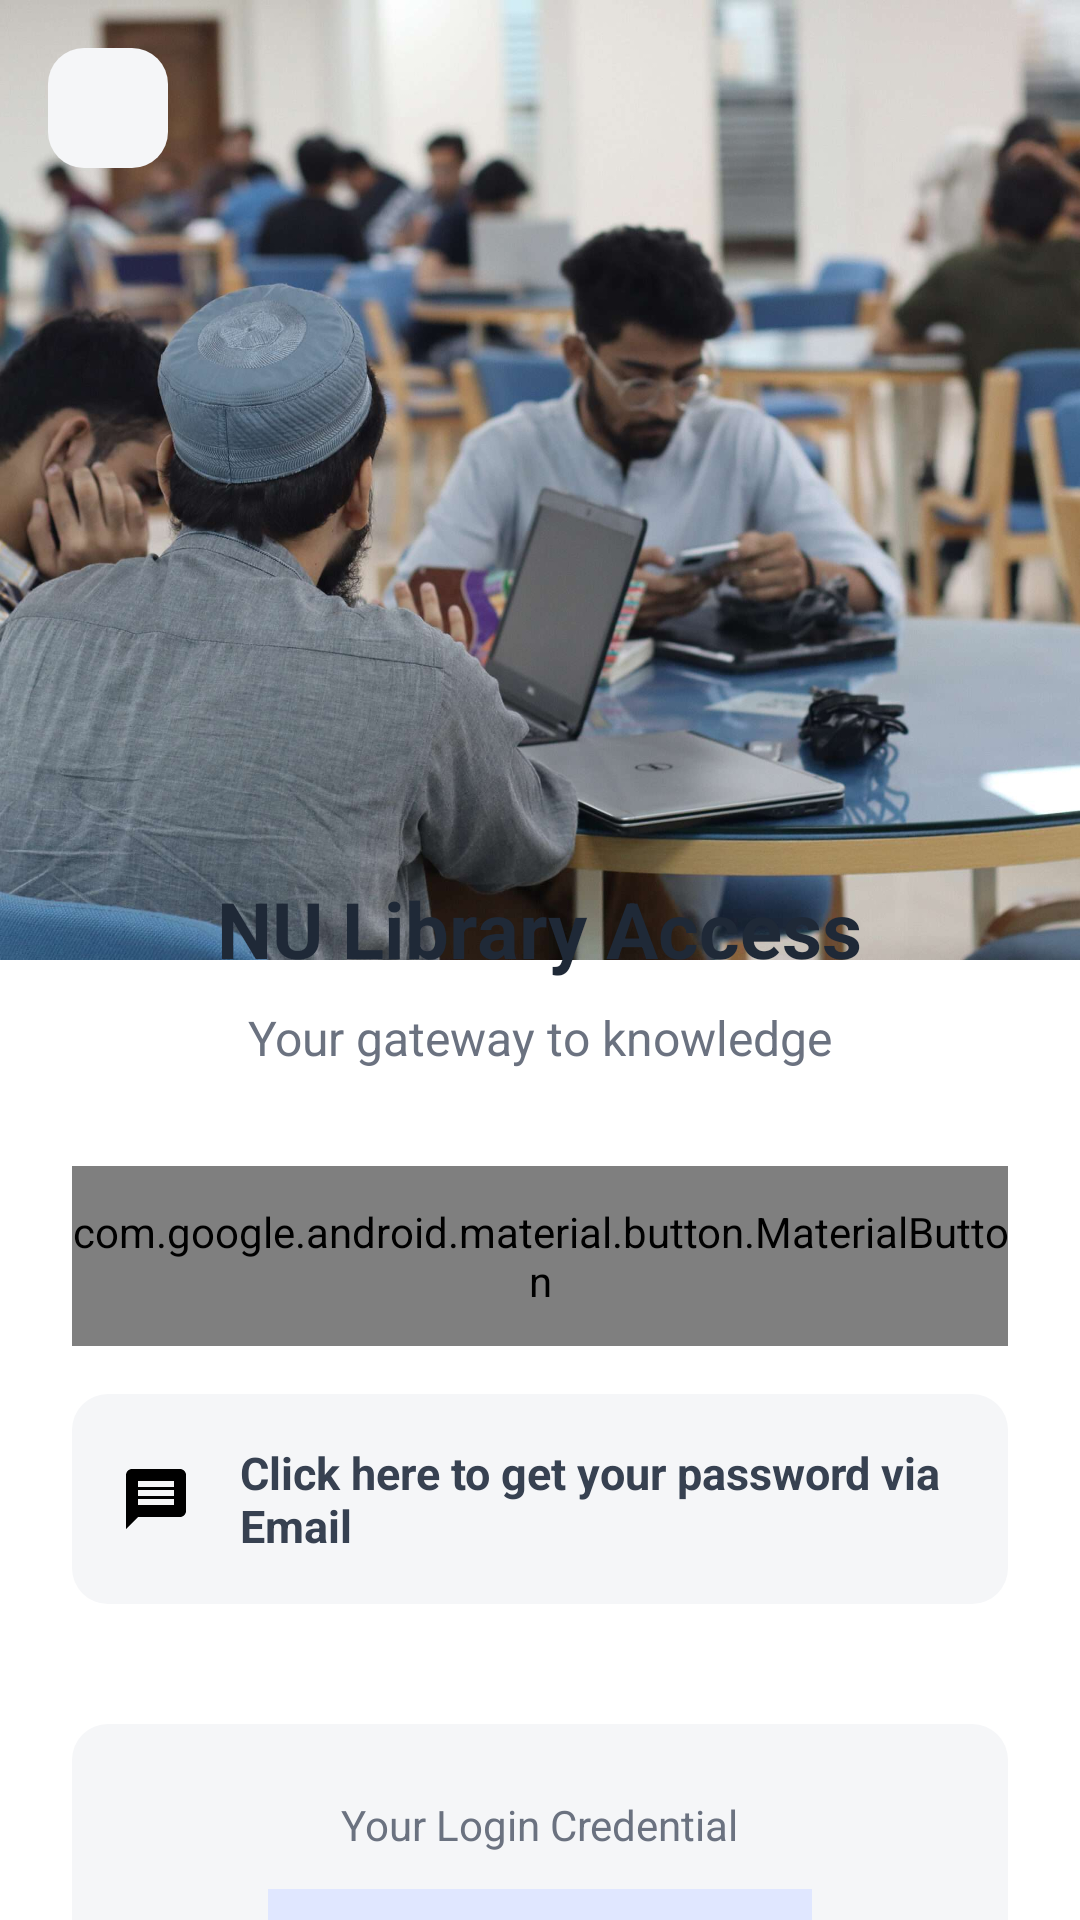

Icon click points for this 1080×1920 phone screenshot, format (x=x, y=y):
message: (x=156, y=1499)
